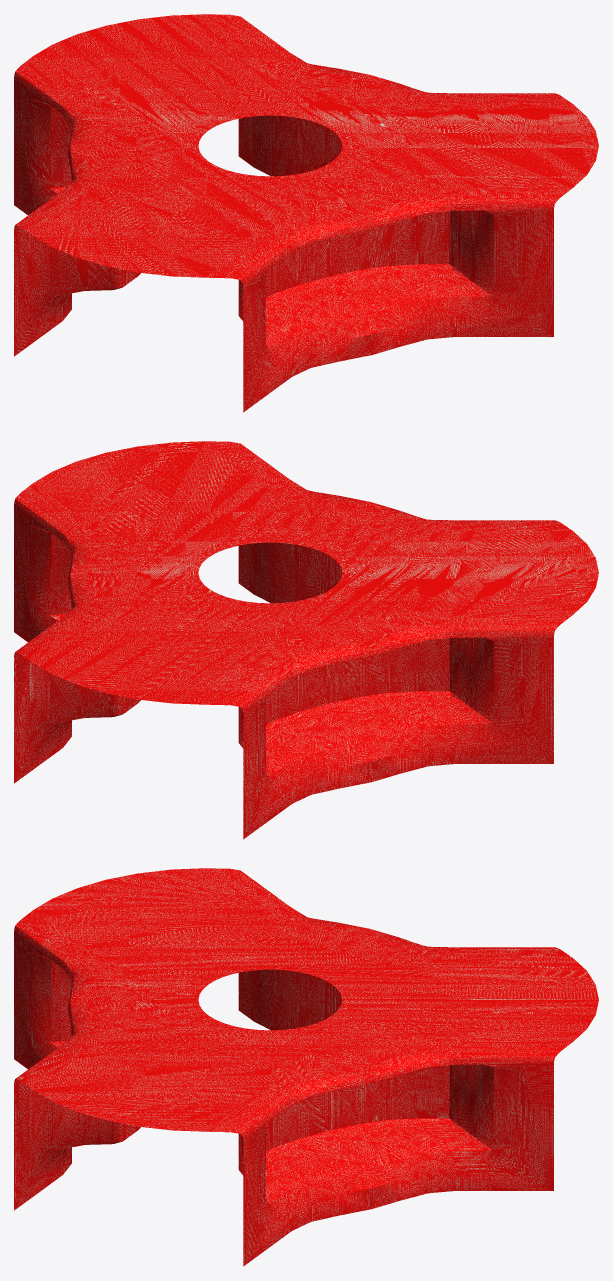
File: original-68.obj
3 renders of one model, top to bottom at view 1: azimuth 30°, elevation 25°; view 2: azimuth 150°, elevation 25°; view 3: azimuth 270°, elevation 25°, orthographic.
Parts seen in each view (by area): view 1: mesh65/mesh65-geometry#mesh65-geometry; view 2: mesh65/mesh65-geometry#mesh65-geometry; view 3: mesh65/mesh65-geometry#mesh65-geometry.
Boxes of the visible parts, x1,y1,x2,y2 form: mesh65/mesh65-geometry#mesh65-geometry: (14,14,598,412); mesh65/mesh65-geometry#mesh65-geometry: (14,441,598,839); mesh65/mesh65-geometry#mesh65-geometry: (14,868,598,1266).
Size of the model in its own units: 0.1308 by 0.0312 by 0.1227.
